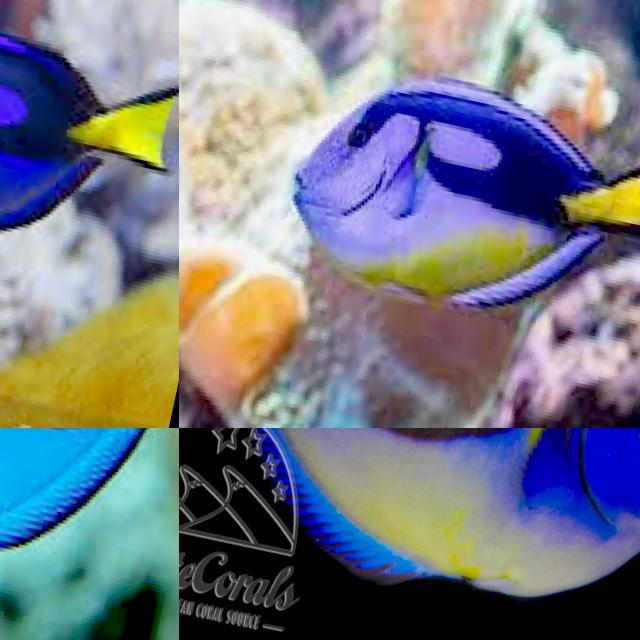BlueTang: (258, 30, 640, 373), (179, 428, 640, 640), (0, 0, 179, 304), (0, 428, 179, 640)
